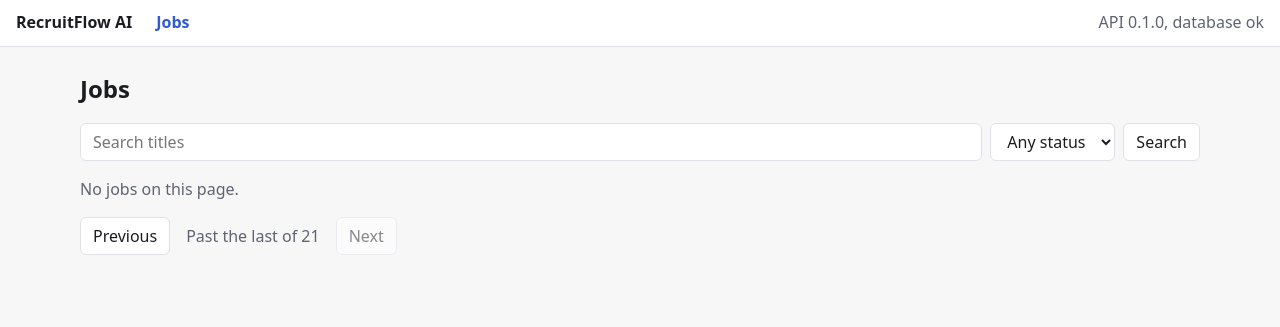
regressions › offers a way back from a job list offset past the last job
Expected: the text "No jobs on this page." is shown, [80,178,239,200]
Expected: the text "Past the last of 21" is shown, [186,224,320,248]
Click the button "Previous": (125, 236) [80,217,170,255]
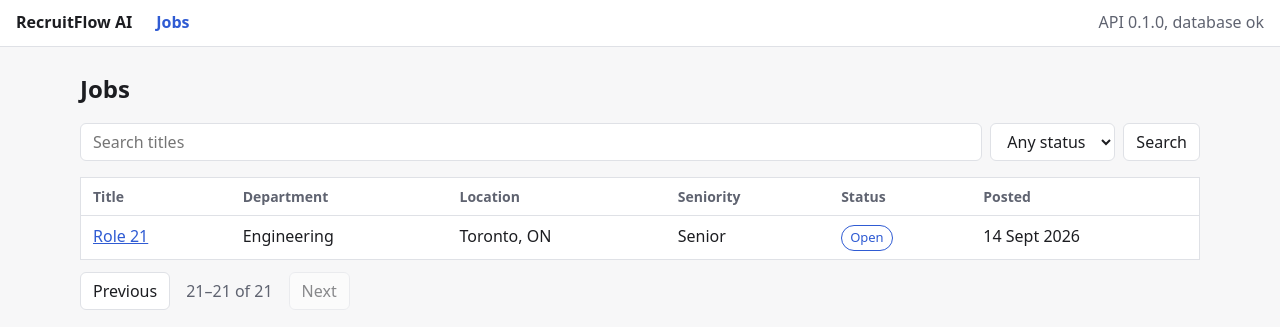
Expected: the link "Role 21" is shown, [93,225,148,247]
